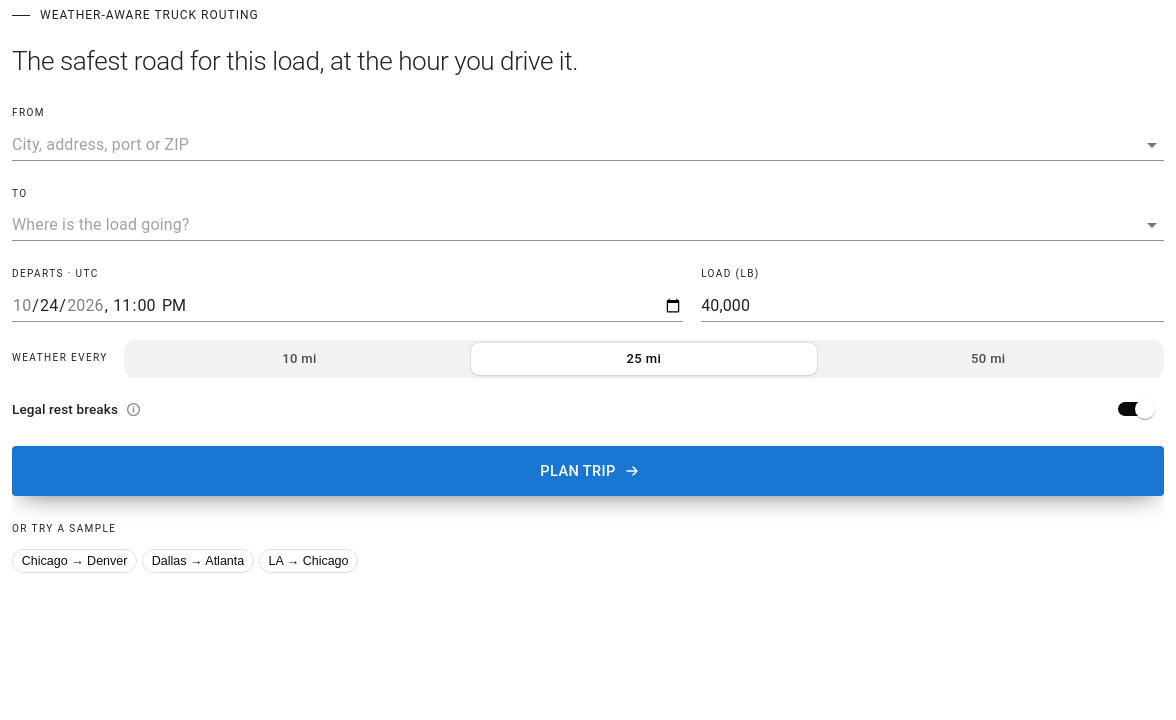
TripForm › does not send an incomplete trip, and says what is missing
This screenshot has width=1176, height=720.
Click the button "Plan trip".
click(588, 471)  # box [12,446,1164,496]
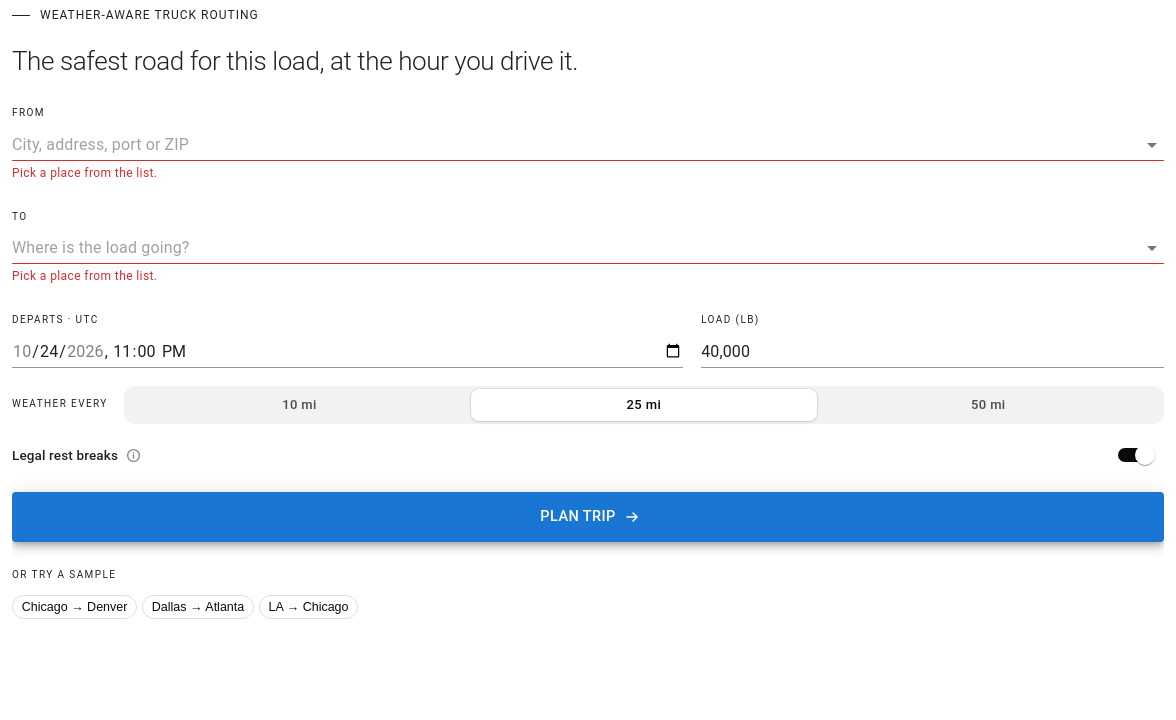
Check: the text "Pick a place from the list." is shown 2 times, box [12,166,157,180]; [12,269,157,283]
